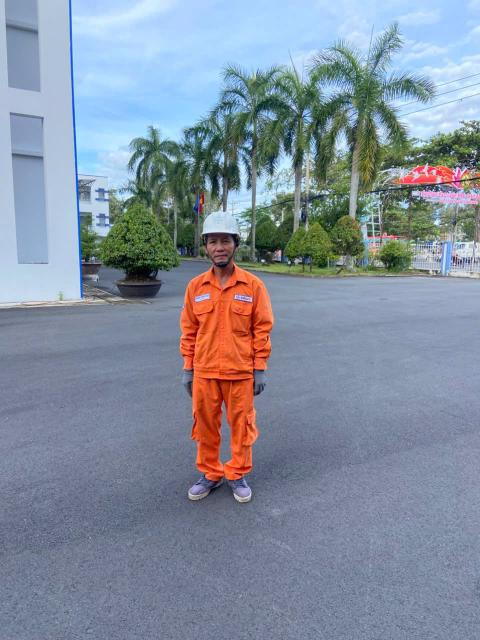gloves: (245, 362, 282, 401), (175, 359, 202, 404)
helmet: (194, 208, 251, 244)
shoes: (213, 467, 258, 509), (188, 465, 224, 512)
